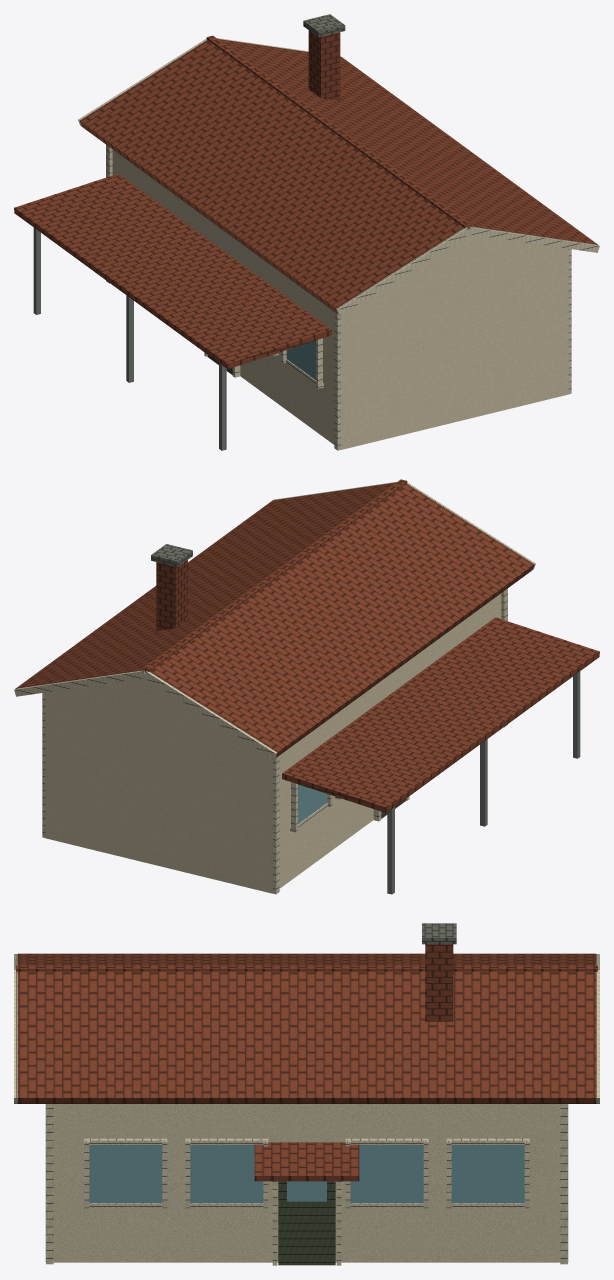
Rendered from arizona-station-modern_lod1.glb.
The picture shows the model from 3 angles, top to bottom: view 1: azimuth 30°, elevation 25°; view 2: azimuth 150°, elevation 25°; view 3: azimuth 270°, elevation 25°; orthographic projection. The views are drawn at different scales.
Parts seen in each view (by area): view 1: RF_Station_Roof-1, RF_Station_Body, RF_Station_Canopy, RF_Station_Roof1, RF_Station_Gable.001, RF_Station_Ridge, RF_Station_Chimney, RF_Station_Vergeband.001, RF_Station_Vergeband.003, RF_Station_Corner.001, RF_Station_Window.001, RF_Station_Post (+4 smaller); view 2: RF_Station_Roof-1, RF_Station_Body, RF_Station_Canopy, RF_Station_Roof1, RF_Station_Gable, RF_Station_Ridge, RF_Station_Chimney, RF_Station_Vergeband.002, RF_Station_Vergeband, RF_Station_Corner.002, RF_Station_Window.004, RF_Station_Post.001 (+4 smaller); view 3: RF_Station_Roof1, RF_Station_Body, RF_Station_Roof-1, RF_Station_Window.005, RF_Station_Window, RF_Station_PublicAwning, RF_Station_Door, RF_Station_Window.006, RF_Station_Window.007, RF_Station_Ridge, RF_Station_Chimney, RF_Station_Corner.003 (+11 smaller).
Boxes of the visible parts, box(x1,y1,x2,y2) form: RF_Station_Roof-1: box(80, 40, 463, 313); RF_Station_Body: box(112, 149, 568, 449); RF_Station_Canopy: box(14, 173, 331, 369); RF_Station_Roof1: box(218, 39, 597, 244); RF_Station_Gable.001: box(385, 234, 553, 287); RF_Station_Ridge: box(206, 35, 471, 228); RF_Station_Chimney: box(308, 30, 340, 100); RF_Station_Vergeband.001: box(336, 227, 469, 315); RF_Station_Vergeband.003: box(468, 226, 599, 252); RF_Station_Corner.001: box(334, 312, 340, 450); RF_Station_Window.001: box(286, 340, 315, 379); RF_Station_Post: box(33, 227, 40, 314); RF_Station_Roof-1: box(150, 484, 534, 757); RF_Station_Body: box(45, 593, 501, 893); RF_Station_Canopy: box(282, 617, 599, 812); RF_Station_Roof1: box(16, 483, 395, 688); RF_Station_Gable: box(54, 678, 235, 735); RF_Station_Ridge: box(142, 479, 407, 672); RF_Station_Chimney: box(156, 560, 187, 630); RF_Station_Vergeband.002: box(144, 671, 277, 759); RF_Station_Vergeband: box(14, 670, 145, 696); RF_Station_Corner.002: box(273, 755, 279, 894); RF_Station_Window.004: box(298, 784, 327, 823); RF_Station_Post.001: box(573, 671, 580, 758); RF_Station_Roof1: box(17, 971, 596, 1103); RF_Station_Body: box(45, 1104, 568, 1262); RF_Station_Roof-1: box(17, 953, 596, 965); RF_Station_Window.005: box(89, 1145, 162, 1203); RF_Station_Window: box(451, 1145, 524, 1203); RF_Station_PublicAwning: box(254, 1142, 359, 1181); RF_Station_Door: box(278, 1181, 335, 1265); RF_Station_Window.006: box(190, 1145, 263, 1203); RF_Station_Window.007: box(350, 1145, 423, 1203); RF_Station_Ridge: box(16, 965, 597, 971); RF_Station_Chimney: box(425, 944, 453, 1021); RF_Station_Corner.003: box(46, 1104, 53, 1264).
Bounding box in the file's own units: 14.23 × 9.3 × 16.82.
8 materials, 6 textured.
